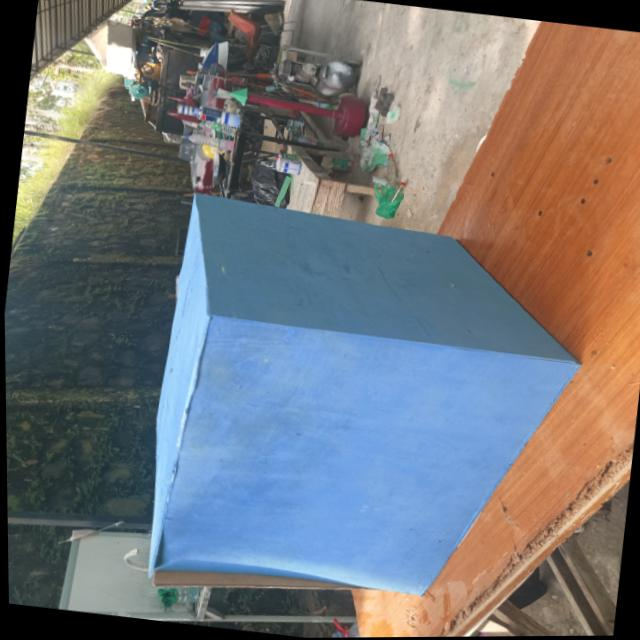blue_box: (129, 191, 579, 637)
